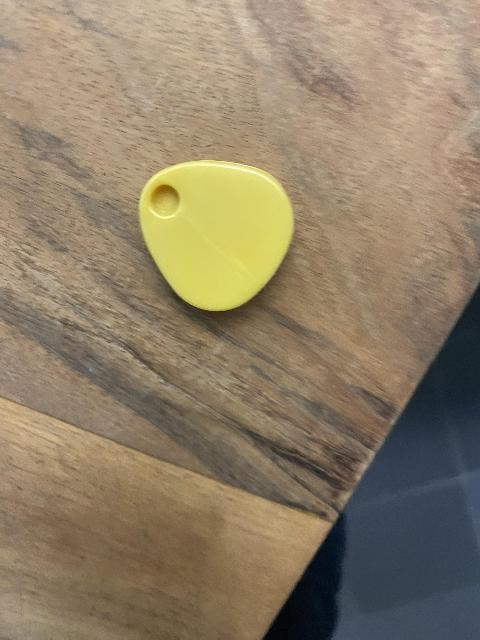Plastik: (140, 157, 289, 314)
